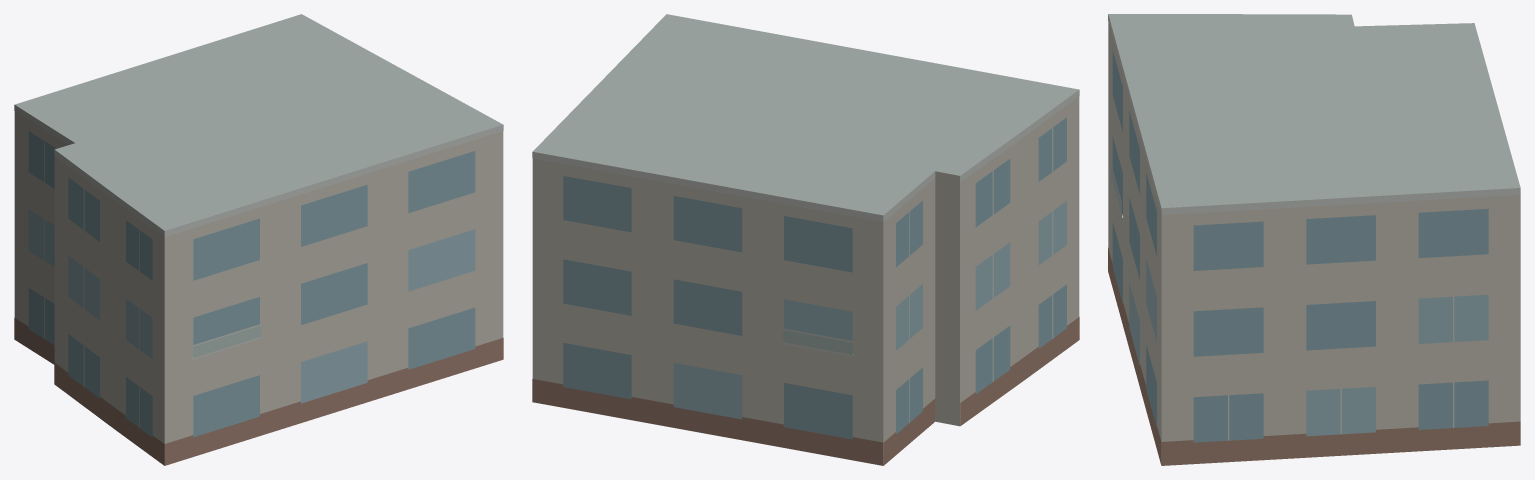
Rendered from survey-upis-32480527.glb.
The picture shows the model from 3 angles, left to right: view 1: azimuth 30°, elevation 25°; view 2: azimuth 150°, elevation 25°; view 3: azimuth 270°, elevation 25°; orthographic projection. The views are drawn at different scales.
Parts seen in each view (by area): view 1: survey-upis-32480527.tmp; view 2: survey-upis-32480527.tmp; view 3: survey-upis-32480527.tmp.
Part boxes in pixels (box(x1,y1,x2,y2)): survey-upis-32480527.tmp: box(14, 14, 503, 465); survey-upis-32480527.tmp: box(532, 14, 1079, 465); survey-upis-32480527.tmp: box(1108, 14, 1520, 465).
Bounding box in the file's own units: 14.81 × 9.15 × 13.29.
